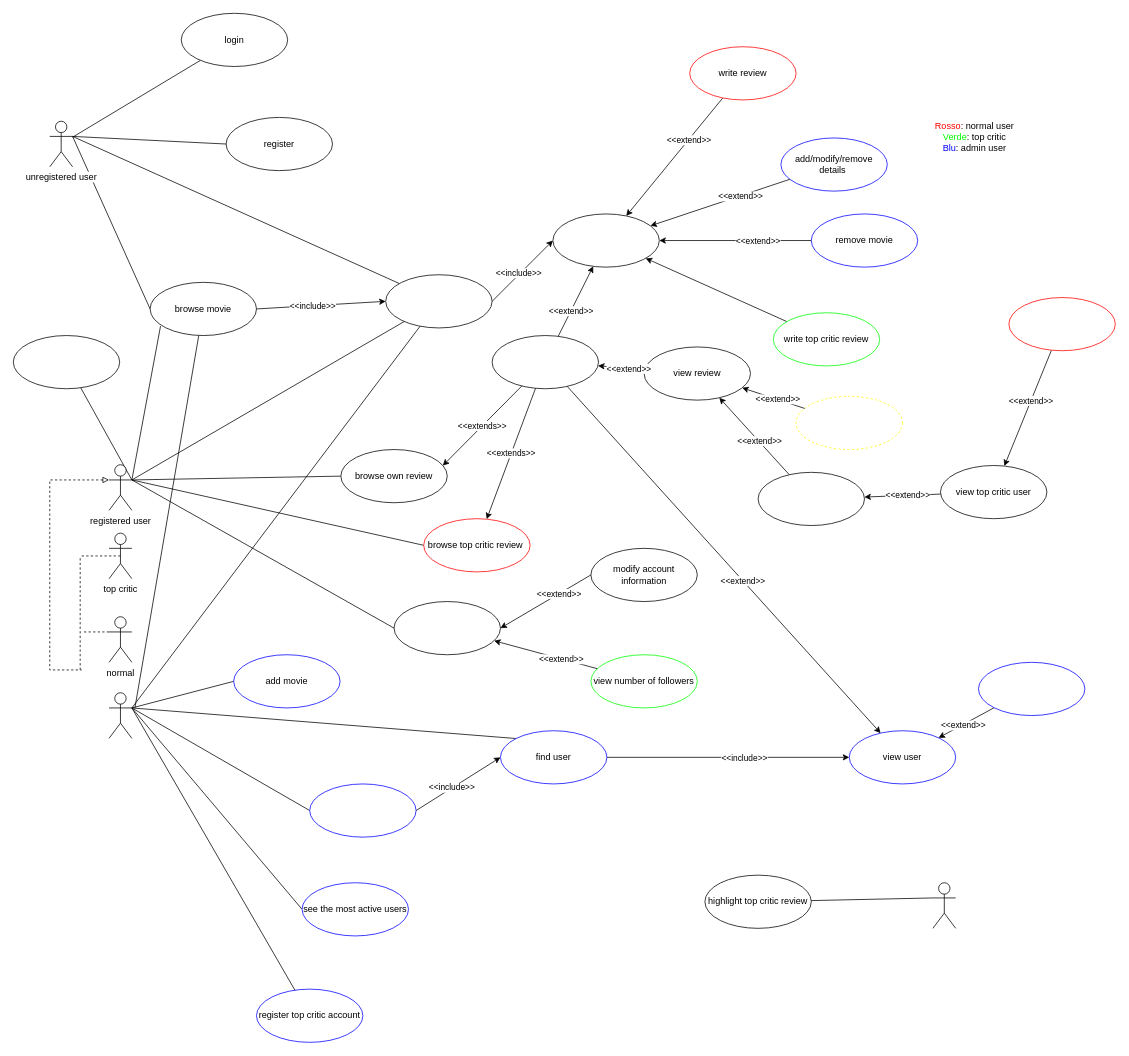
The diagram is 1129 pixels wide and 1056 high, and some of its shapes have lost their labels. Here are the shapes that lost their labels. From the top down, the centre of each, then its label:
[605,240]: view movie
[438,301]: find movie
[1061,324]: follow "top critic" user
[66,362]: logout
[544,362]: find review
[848,423]: modify review
[810,499]: find top critic user
[446,628]: view account information
[1031,689]: ban user
[120,715]: admin
[362,810]: browse user
[944,905]: System
